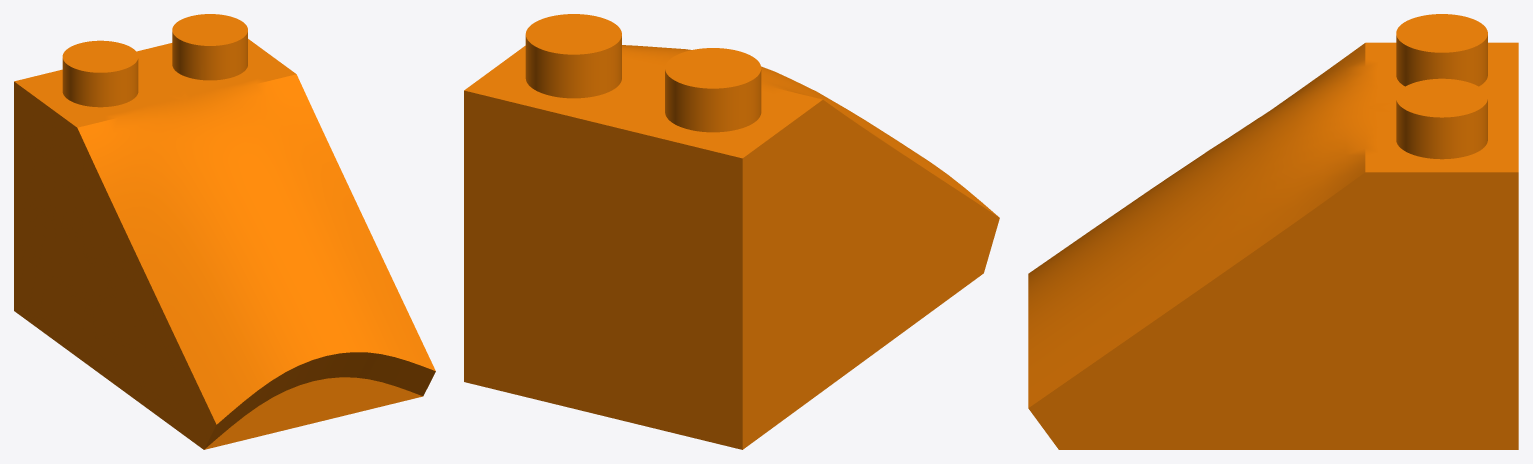
File: 3x2 Shingle.glb
3 renders of one model, left to right at view 1: azimuth 30°, elevation 25°; view 2: azimuth 150°, elevation 25°; view 3: azimuth 270°, elevation 25°, orthographic. The views are drawn at different scales.
Parts seen in each view (by area): view 1: 3x2 Shingle; view 2: 3x2 Shingle; view 3: 3x2 Shingle.
Part boxes in pixels (x1=…): 3x2 Shingle: x1=14, y1=14, x2=435, y2=449; 3x2 Shingle: x1=464, y1=14, x2=999, y2=449; 3x2 Shingle: x1=1028, y1=14, x2=1518, y2=449.
Size of the model in its own units: 0.02 by 0.023 by 0.032.
